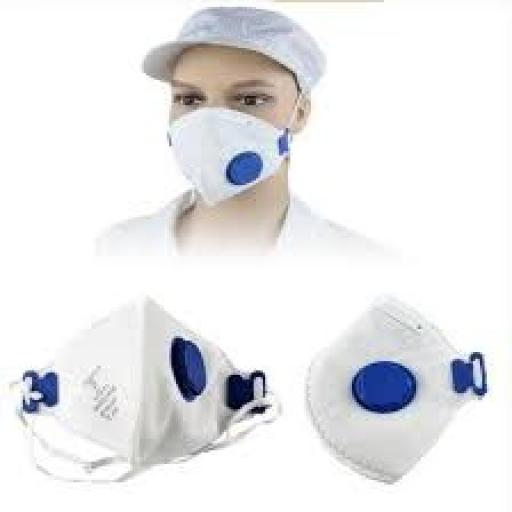mask: (157, 112, 309, 205)
